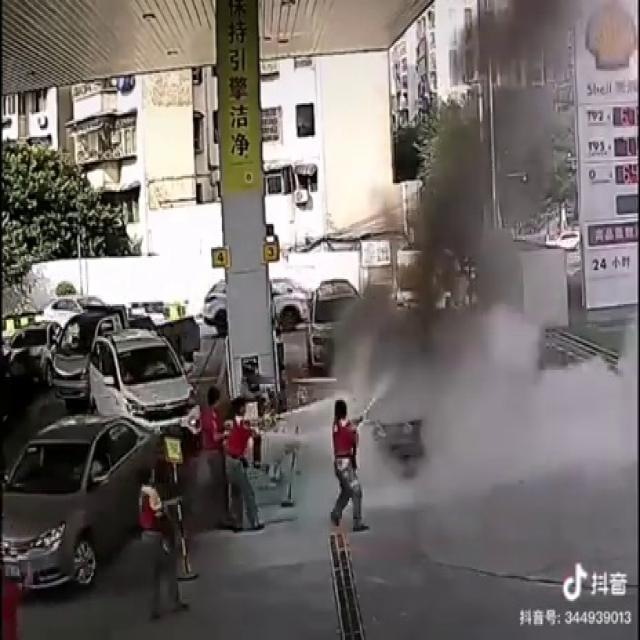Smoke: (342, 0, 616, 540)
